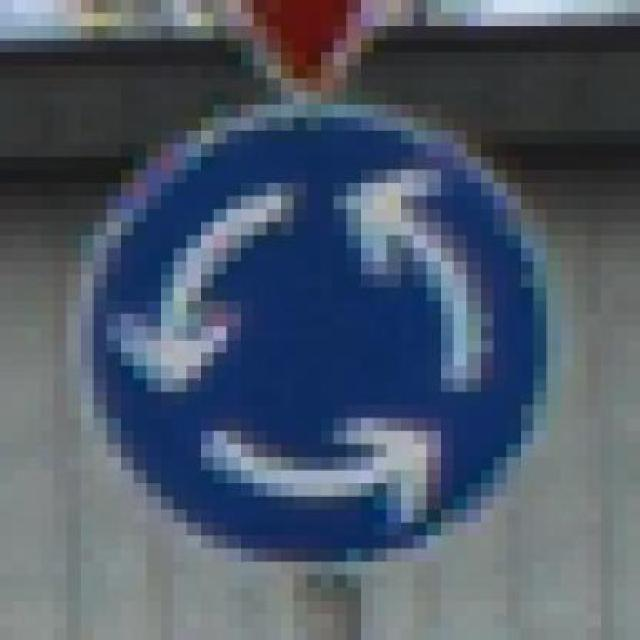Round-About: (66, 91, 574, 574)
